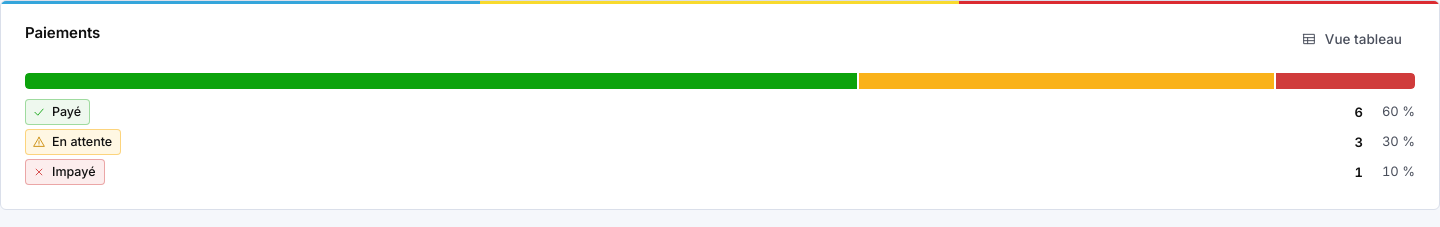
Test: StatusDistribution › couleurs d’état doublées d’icônes et de libellés, parts, infobulle au clavier, tableau
The image size is (1440, 227).
Later steps or results of the test are not shown.
Expected: the list item "Payé" reads "Payé 6 60 %", [25,99,1415,125]
Focus the picture named "Impayé : 1 paiements, 10 %": (1346, 81) [1276,73,1415,89]
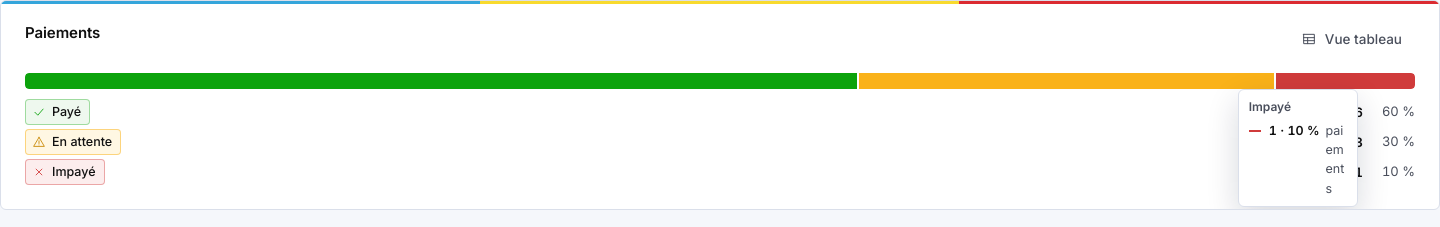
Expected: the tooltip shows "1 · 10 %", [1269,123,1320,138]
Leave the picture named "Impayé : 1 paiements, 10 %", box [1276,73,1415,89]
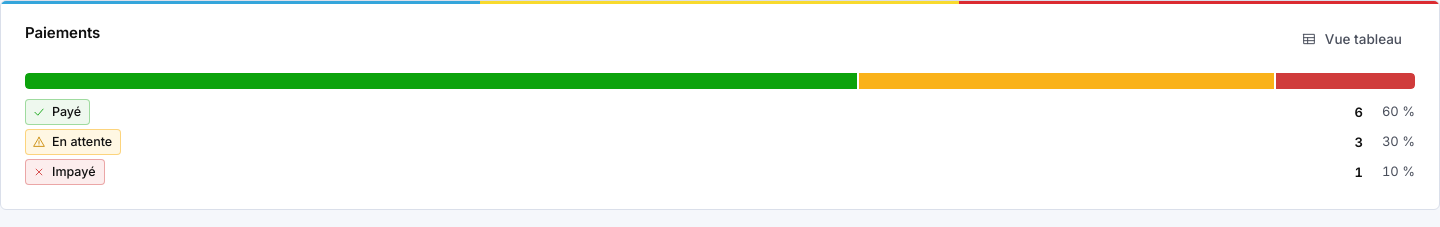
Expected: the tooltip "Impayé 1 · 10 % paiements" is gone
